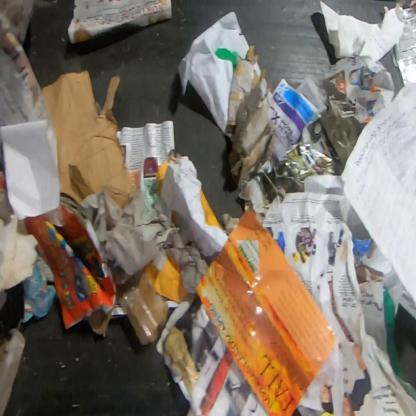cardboard: (42, 71, 138, 213), (225, 47, 274, 196), (119, 266, 169, 344)
soft_plastic: (393, 0, 415, 86)
